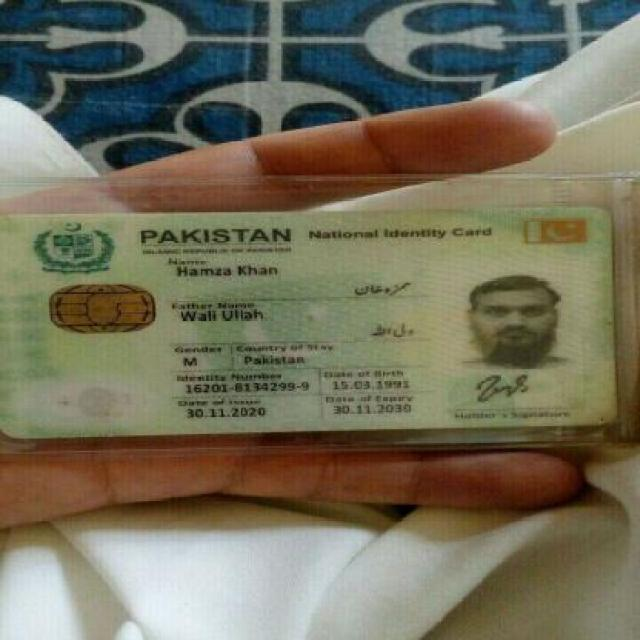Front: (6, 198, 625, 437)
